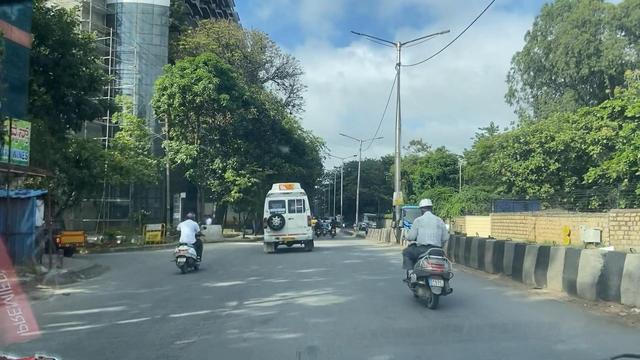HMV: (269, 186, 319, 256)
LMV: (410, 196, 458, 313), (176, 209, 206, 272)
